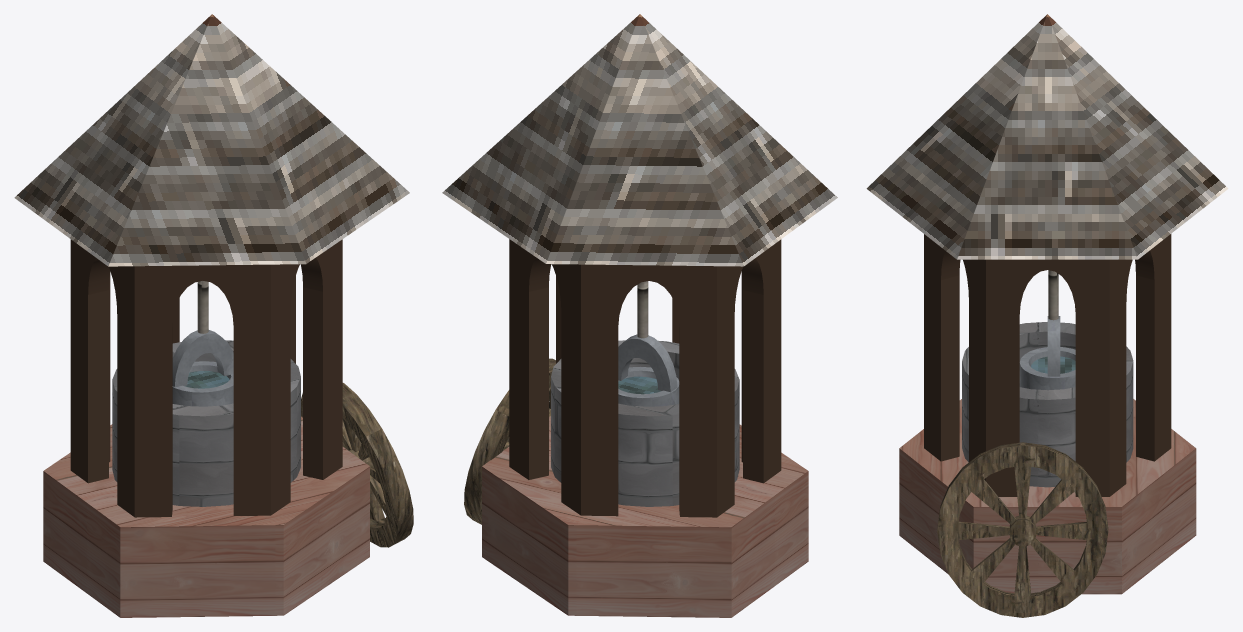
The model's file is Well New.fbx.
The picture shows the model from 3 angles, left to right: view 1: azimuth 30°, elevation 25°; view 2: azimuth 150°, elevation 25°; view 3: azimuth 270°, elevation 25°; orthographic projection. The views are drawn at different scales.
Parts seen in each view (by area): view 1: mergedBlocks; view 2: mergedBlocks; view 3: mergedBlocks.
Boxes of the visible parts, <box> form: mergedBlocks: <box>14,14,413,617</box>; mergedBlocks: <box>442,14,837,617</box>; mergedBlocks: <box>866,14,1228,617</box>.
Bounding box in the file's own units: 8.09 × 13.72 × 8.45.
